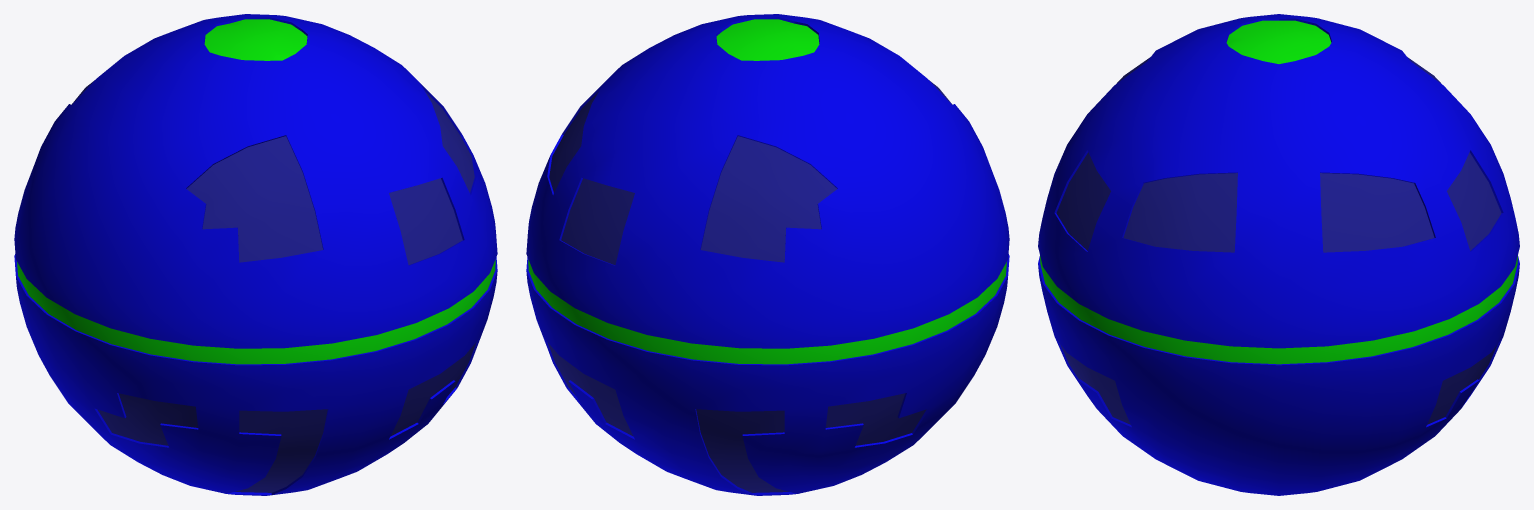
Rendered from puzzle ball.fbx.
3 renders of one model, left to right at view 1: azimuth 30°, elevation 25°; view 2: azimuth 150°, elevation 25°; view 3: azimuth 270°, elevation 25°, orthographic.
Visible parts, largest first — view 1: pCube1; view 2: pCube1; view 3: pCube1.
Boxes of the visible parts, x1,y1,x2,y2 form: pCube1: (14,14,497,495); pCube1: (526,14,1009,495); pCube1: (1038,14,1519,495).
Size of the model in its own units: 2.15 by 2.16 by 2.15.
